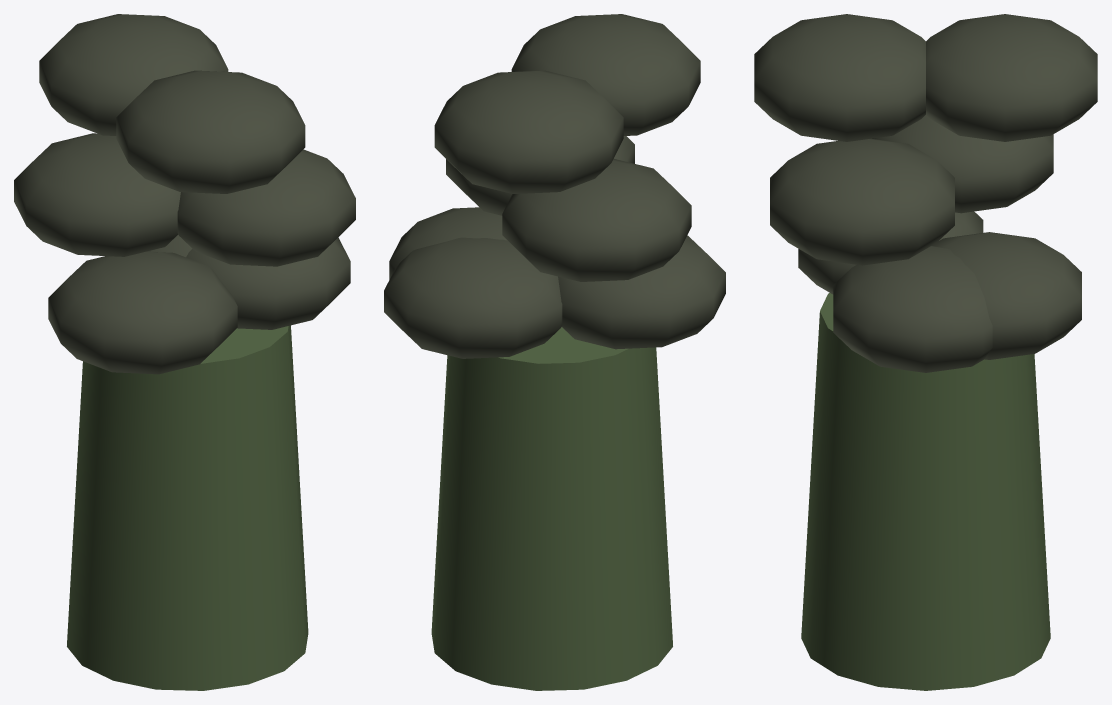
Rendered from plant-desk.glb.
The picture shows the model from 3 angles, left to right: view 1: azimuth 30°, elevation 25°; view 2: azimuth 150°, elevation 25°; view 3: azimuth 270°, elevation 25°; orthographic projection. The views are drawn at different scales.
Parts seen in each view (by area): view 1: REF-L04-R01-plant-desk-part-1, REF-L04-R01-plant-desk-part-4, REF-L04-R01-plant-desk-part-5, REF-L04-R01-plant-desk-part-6, REF-L04-R01-plant-desk-part-3, REF-L04-R01-plant-desk-part-7, REF-L04-R01-plant-desk-part-2; view 2: REF-L04-R01-plant-desk-part-1, REF-L04-R01-plant-desk-part-7, REF-L04-R01-plant-desk-part-8, REF-L04-R01-plant-desk-part-6, REF-L04-R01-plant-desk-part-4, REF-L04-R01-plant-desk-part-5, REF-L04-R01-plant-desk-part-2, REF-L04-R01-plant-desk-part-3; view 3: REF-L04-R01-plant-desk-part-1, REF-L04-R01-plant-desk-part-3, REF-L04-R01-plant-desk-part-4, REF-L04-R01-plant-desk-part-7, REF-L04-R01-plant-desk-part-2, REF-L04-R01-plant-desk-part-8, REF-L04-R01-plant-desk-part-6, REF-L04-R01-plant-desk-part-5.
Boxes of the visible parts, box(x1,y1,x2,y2) form: REF-L04-R01-plant-desk-part-1: box(67, 325, 308, 690); REF-L04-R01-plant-desk-part-4: box(116, 70, 305, 193); REF-L04-R01-plant-desk-part-5: box(48, 251, 237, 374); REF-L04-R01-plant-desk-part-6: box(14, 133, 180, 256); REF-L04-R01-plant-desk-part-3: box(177, 149, 355, 266); REF-L04-R01-plant-desk-part-7: box(39, 14, 228, 135); REF-L04-R01-plant-desk-part-2: box(186, 237, 350, 329); REF-L04-R01-plant-desk-part-1: box(431, 327, 672, 690); REF-L04-R01-plant-desk-part-7: box(434, 70, 623, 193); REF-L04-R01-plant-desk-part-8: box(384, 237, 562, 358); REF-L04-R01-plant-desk-part-6: box(502, 159, 691, 281); REF-L04-R01-plant-desk-part-4: box(511, 14, 700, 135); REF-L04-R01-plant-desk-part-5: box(558, 235, 725, 349); REF-L04-R01-plant-desk-part-2: box(389, 207, 507, 279); REF-L04-R01-plant-desk-part-3: box(446, 136, 634, 215); REF-L04-R01-plant-desk-part-1: box(801, 293, 1050, 690); REF-L04-R01-plant-desk-part-3: box(770, 138, 954, 265); REF-L04-R01-plant-desk-part-4: box(754, 14, 925, 141); REF-L04-R01-plant-desk-part-7: box(926, 14, 1097, 141); REF-L04-R01-plant-desk-part-2: box(833, 246, 992, 372); REF-L04-R01-plant-desk-part-8: box(932, 232, 1081, 359); REF-L04-R01-plant-desk-part-6: box(872, 115, 1053, 213); REF-L04-R01-plant-desk-part-5: box(798, 211, 983, 294).
Bounding box in the file's own units: 0.0783 × 0.1491 × 0.077.
